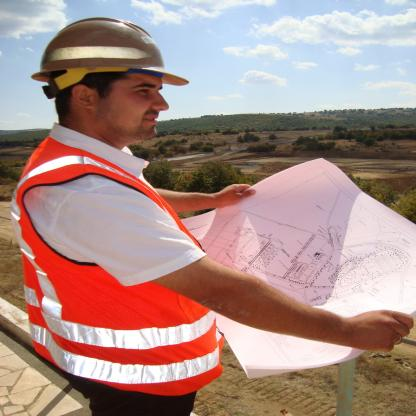Helmet: (35, 19, 178, 122)
